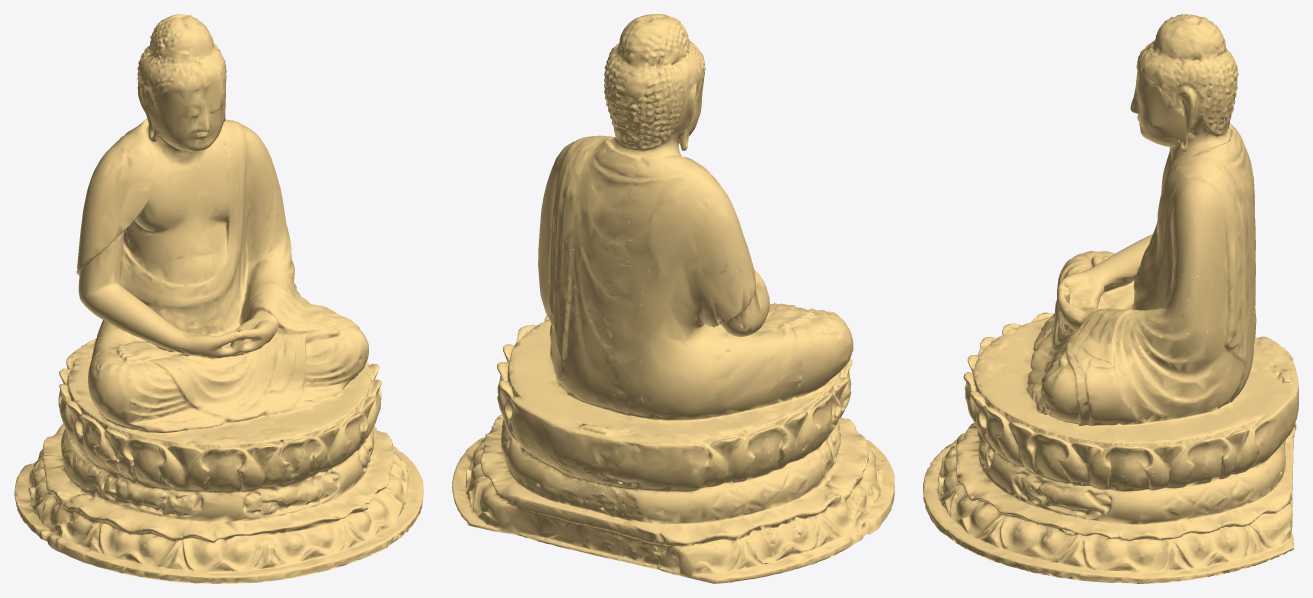
The model's file is amida_gold.glb.
3 views of the same model, side by side, from view 1: azimuth 30°, elevation 25°; view 2: azimuth 150°, elevation 25°; view 3: azimuth 270°, elevation 25° (orthographic). The views are drawn at different scales.
Parts seen in each view (by area): view 1: amida; view 2: amida; view 3: amida.
Boxes of the visible parts, <box> form: amida: <box>14,14,423,583</box>; amida: <box>452,14,894,583</box>; amida: <box>923,14,1298,583</box>.
Size of the model in its own units: 1.14 by 1.42 by 1.02.
